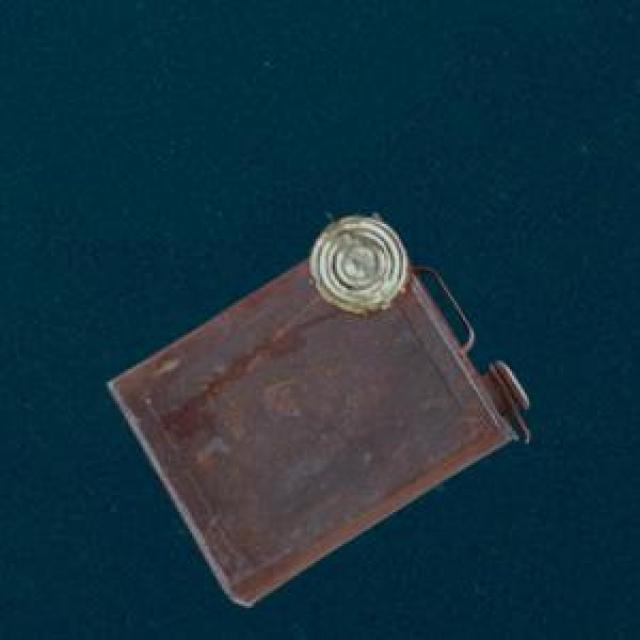logam: (103, 255, 526, 603), (306, 214, 406, 313)
